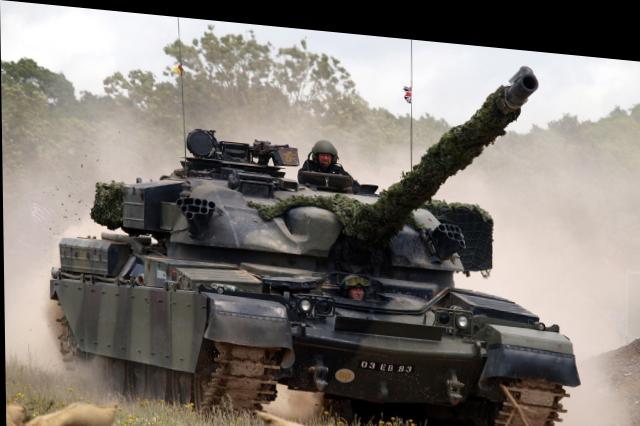tank: (40, 133, 564, 424)
